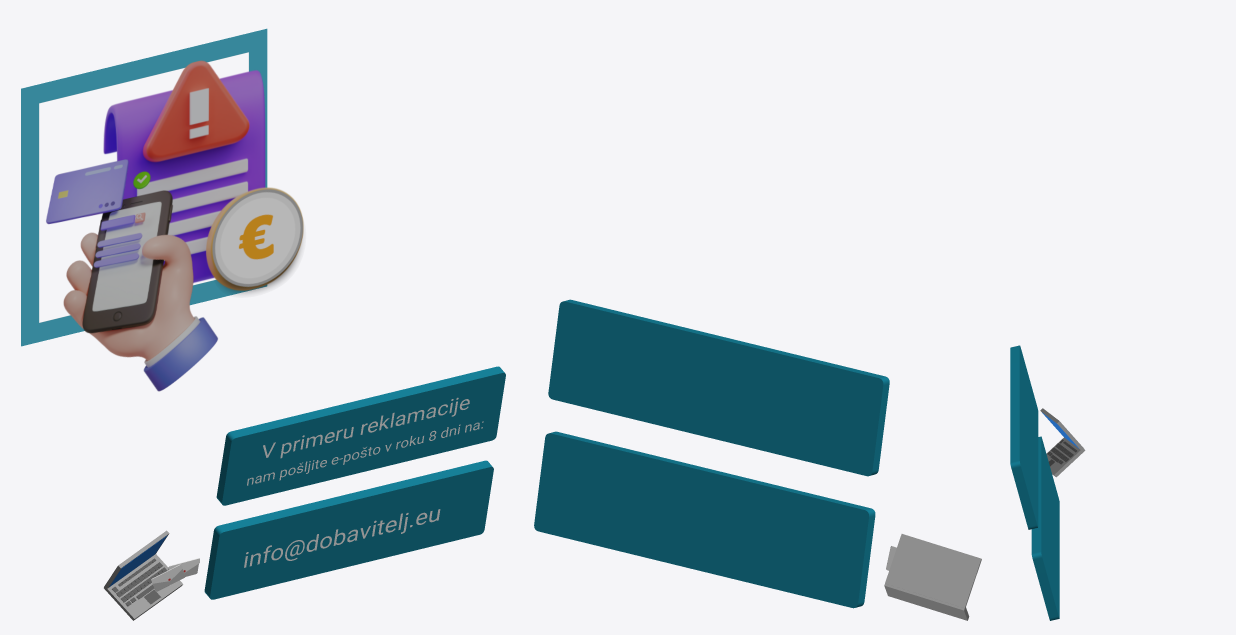
3 renders of one model, left to right at view 1: azimuth 30°, elevation 25°; view 2: azimuth 150°, elevation 25°; view 3: azimuth 270°, elevation 25°, orthographic. The views are drawn at different scales.
Parts seen in each view (by area): view 1: reklamacija.png, reklamacija (2).png, Rectangle - e-mail, Rectangle - reklamacija, dobavitelj (2).png, bottompart, info@dobavitelj.eu, Reklamacija, 8 dni, keyboard; view 2: Rectangle - e-mail, Rectangle - reklamacija, laptopbackscreen, bottompart; view 3: Rectangle - reklamacija, Rectangle - e-mail, bottompart.
Part boxes in pixels (x1,y1,x2,y2): reklamacija.png: [103, 60, 303, 292]; reklamacija (2).png: [46, 159, 217, 391]; Rectangle - e-mail: [204, 460, 493, 599]; Rectangle - reklamacija: [216, 366, 505, 505]; dobavitelj (2).png: [21, 28, 267, 346]; bottompart: [104, 554, 182, 620]; info@dobavitelj.eu: [244, 509, 440, 567]; Reklamacija: [263, 397, 469, 458]; 8 dni: [247, 421, 483, 485]; keyboard: [120, 558, 167, 599]; Rectangle - e-mail: [534, 431, 875, 608]; Rectangle - reklamacija: [548, 299, 889, 476]; laptopbackscreen: [885, 534, 981, 608]; bottompart: [884, 583, 969, 620]; Rectangle - reklamacija: [1010, 345, 1038, 529]; Rectangle - e-mail: [1031, 436, 1059, 620]; bottompart: [1046, 437, 1085, 477].
Size of the model in its own units: 33.88 by 39.56 by 17.43.
23 materials, 3 textured.
